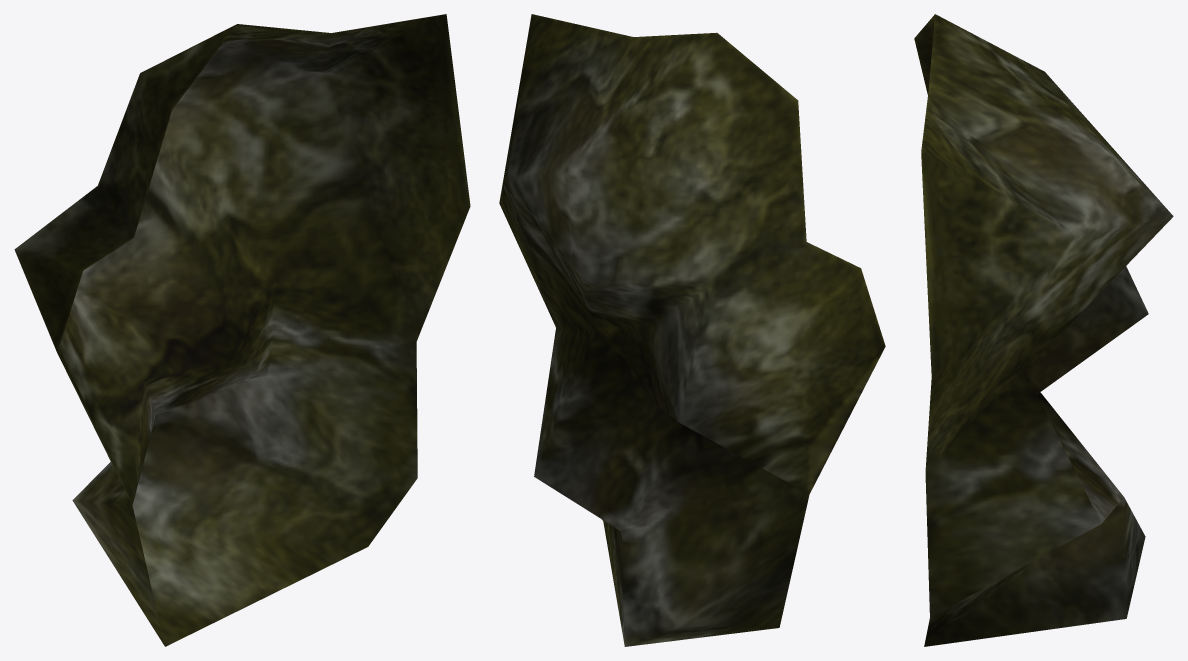
File: MEP_GroundRocks_01_a_LOD_01.fbx
The picture shows the model from 3 angles, left to right: view 1: azimuth 30°, elevation 25°; view 2: azimuth 150°, elevation 25°; view 3: azimuth 270°, elevation 25°; orthographic projection. The views are drawn at different scales.
Parts seen in each view (by area): view 1: MEP_GroundRock_01_a_LOD_01; view 2: MEP_GroundRock_01_a_LOD_01; view 3: MEP_GroundRock_01_a_LOD_01.
Boxes of the visible parts, bbox=[...] form: MEP_GroundRock_01_a_LOD_01: bbox=[14, 14, 470, 646]; MEP_GroundRock_01_a_LOD_01: bbox=[499, 14, 885, 646]; MEP_GroundRock_01_a_LOD_01: bbox=[914, 14, 1173, 646].
Bounding box in the file's own units: 1.72 × 2.44 × 0.9104.
